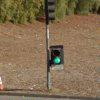Traffic light: (44, 0, 63, 71)
